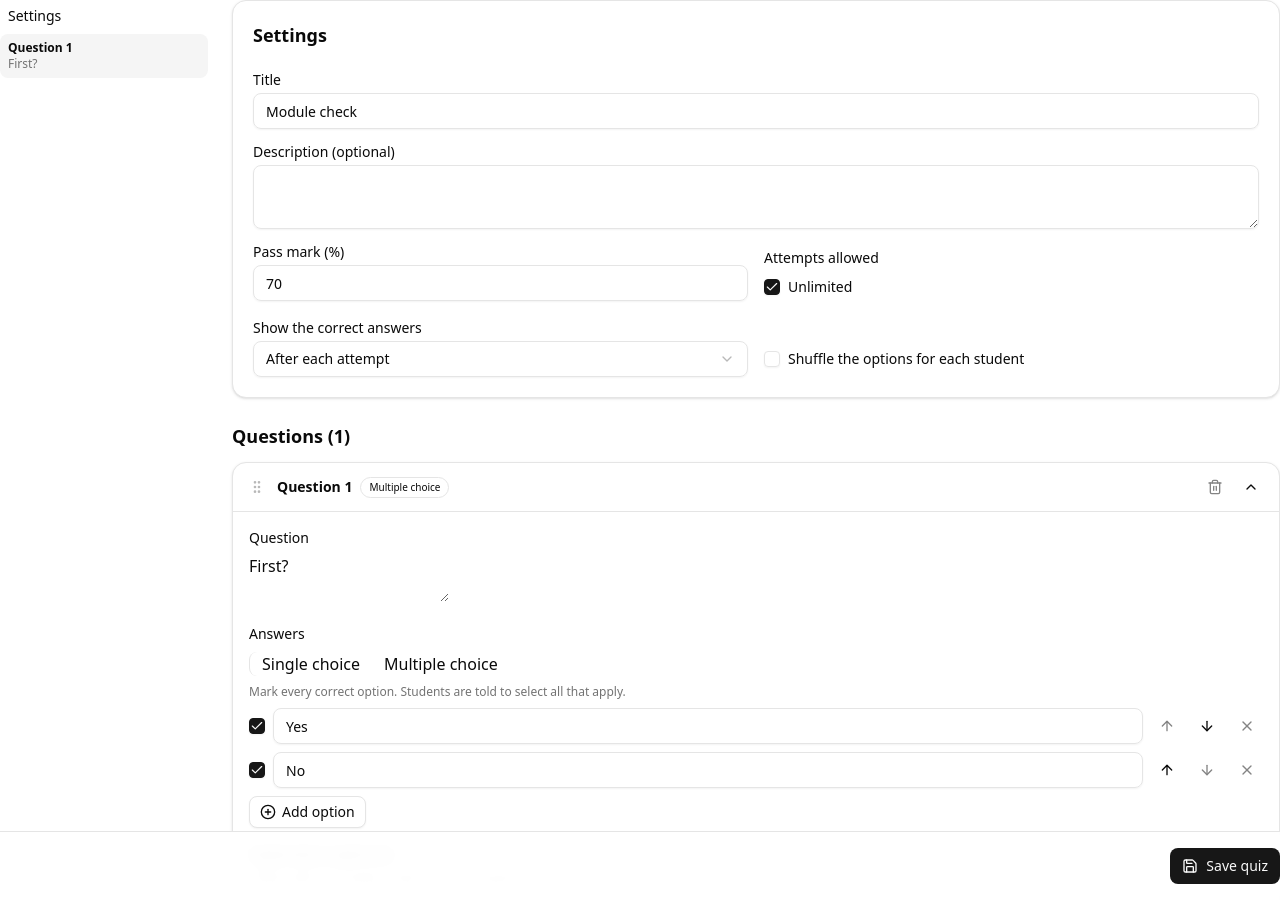
Test: QuizBuilder › asks which answer stays correct when switching to single choice
This screenshot has width=1280, height=900.
Click the radio button labelled "Single choice".
click(310, 664)  # box [249,652,372,676]
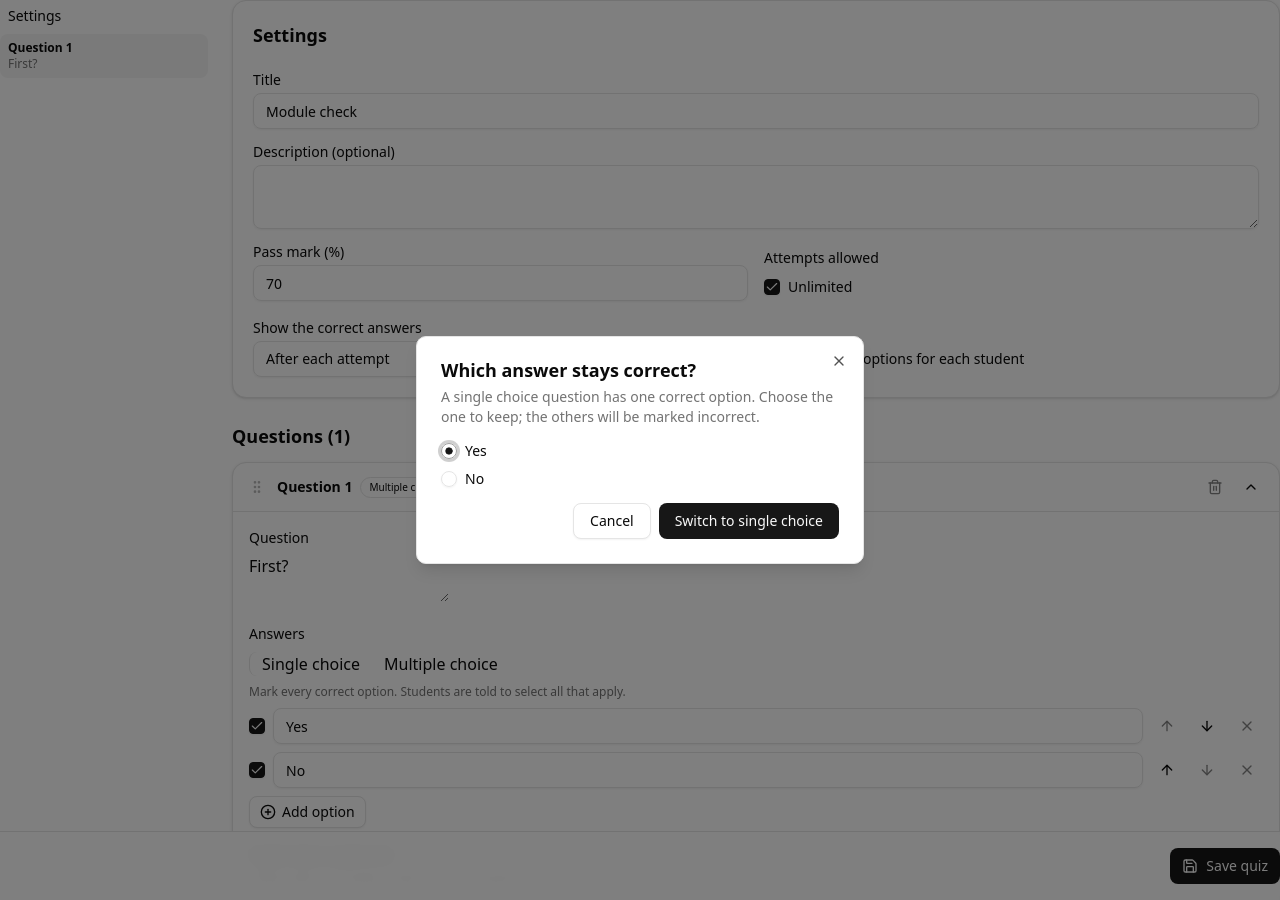
Click the radio button named "No" next to "No".
click(449, 479)  # box [441,471,457,487]
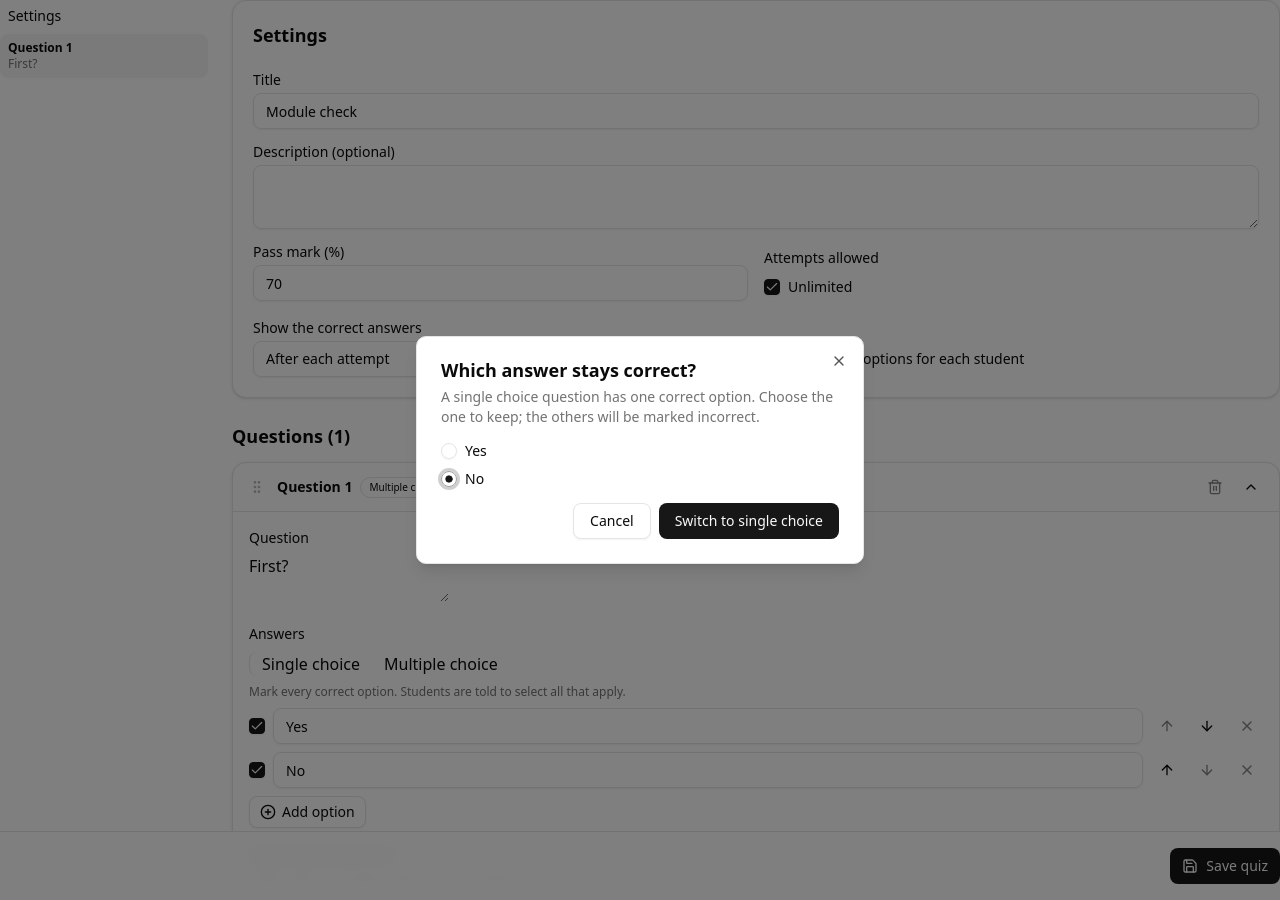
Click the button "Switch to single choice".
click(749, 521)  # box [659,503,839,539]
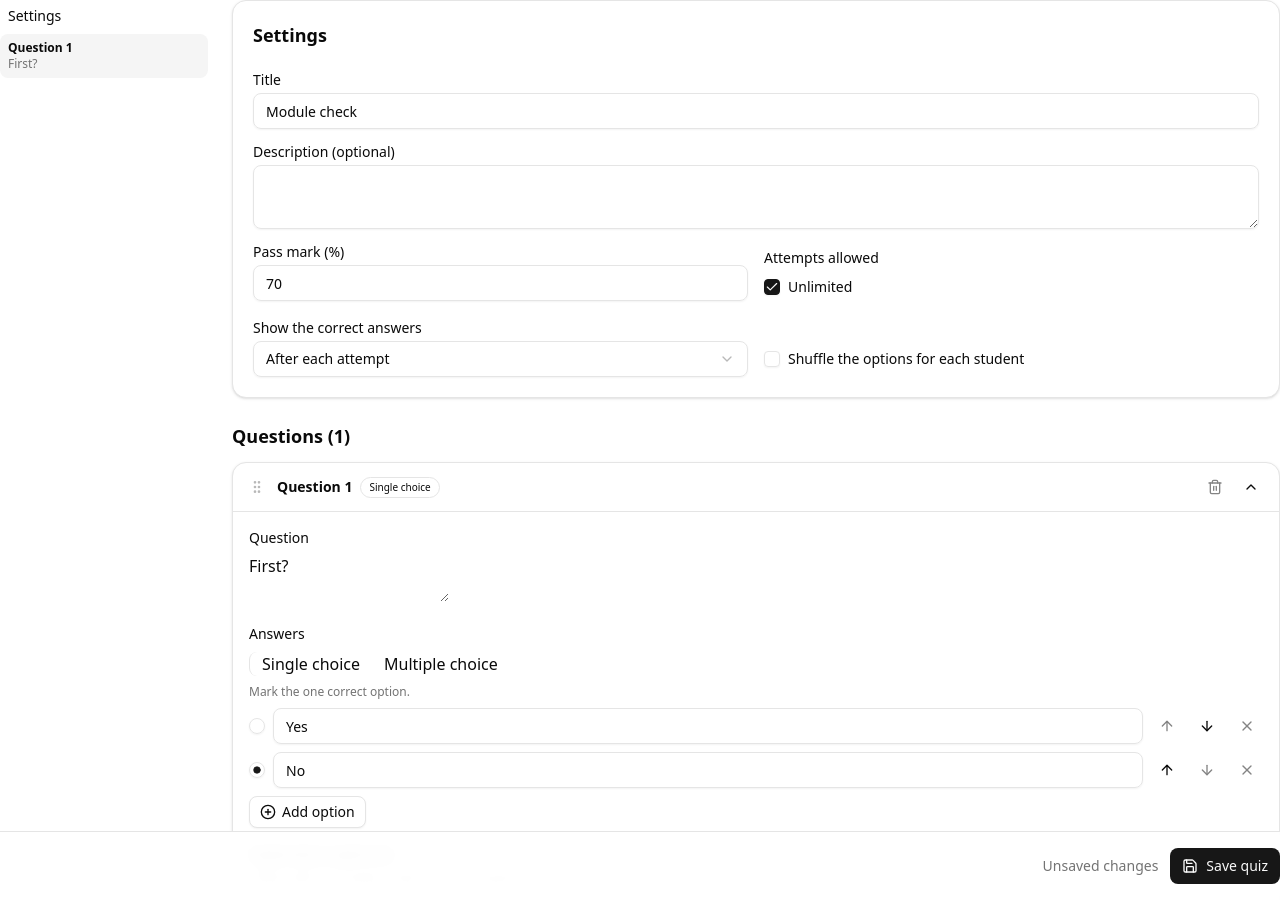
Check: the radio button named "Option 1 is correct" is not checked, box [249,718,265,734]
Check: the radio button named "Option 2 is correct" is checked, box [249,762,265,778]
